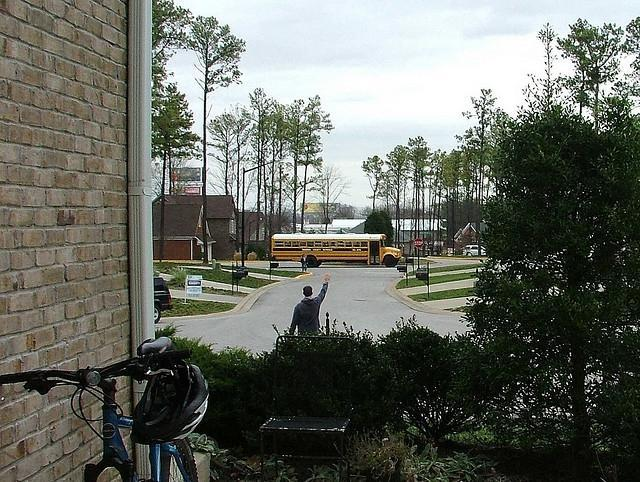bicycle: (1, 336, 211, 476)
bus: (272, 233, 402, 268)
car: (155, 277, 176, 324), (463, 245, 486, 257)
